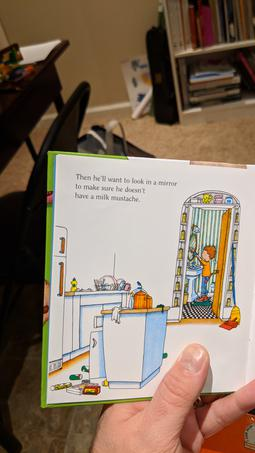text block: (63, 166, 183, 207)
